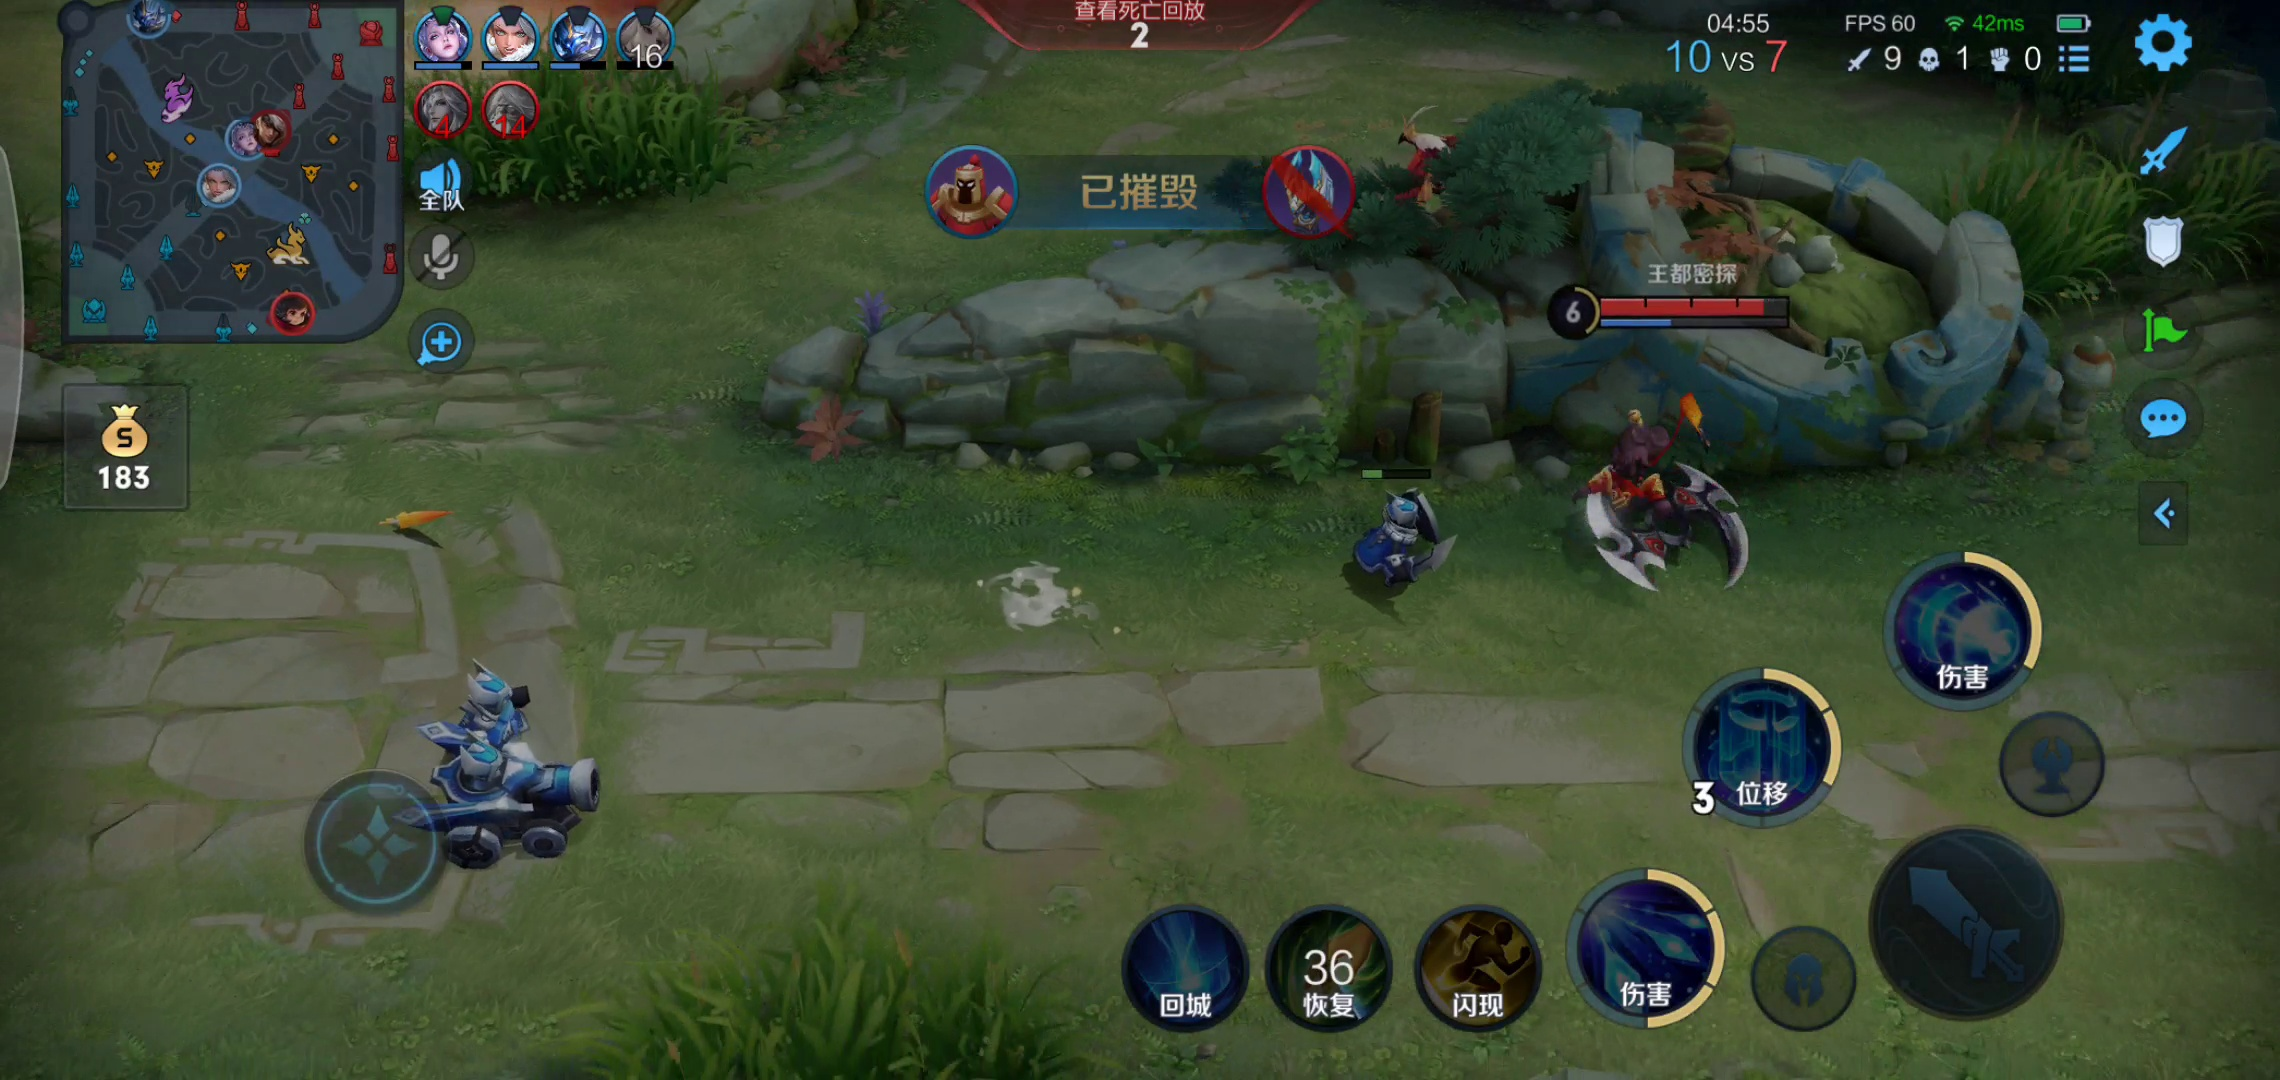grass: (555, 920, 1086, 1080), (1924, 131, 2280, 281), (382, 74, 760, 208)
hero: (1572, 395, 1754, 592)
soldier: (430, 753, 614, 861), (406, 664, 576, 779), (1333, 494, 1476, 592)
